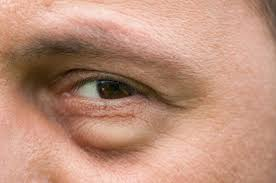PUFFY_EYES: (36, 51, 190, 153)
